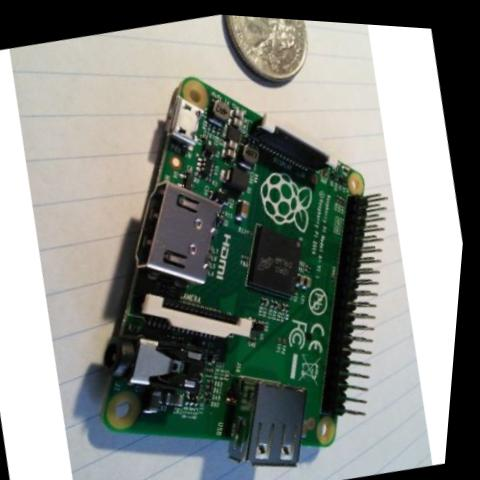Raspberry-Pi-1-Model-A-: (7, 10, 463, 480)
